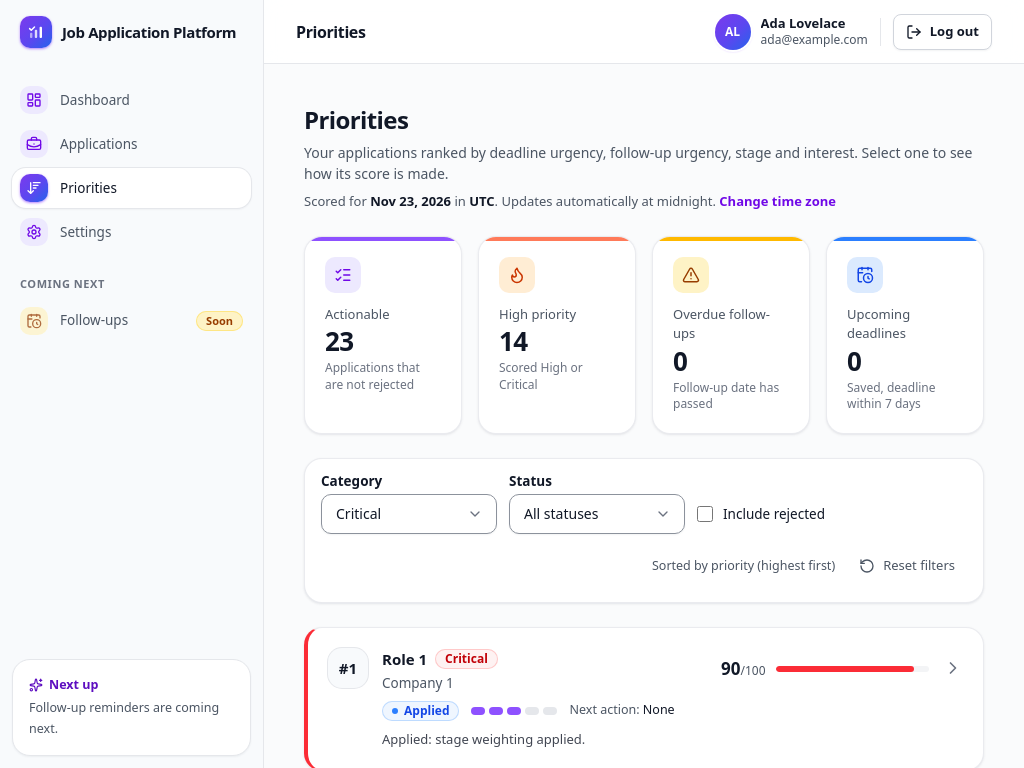
it: Priorities page: filters and pagination › filters live in the URL and can be reset
Expected: the dropdown labelled "Category" shows "Critical", x1=321 y1=494 x2=497 y2=534
Click the button "Reset filters": [907, 566] box x1=847 y1=546 x2=967 y2=586
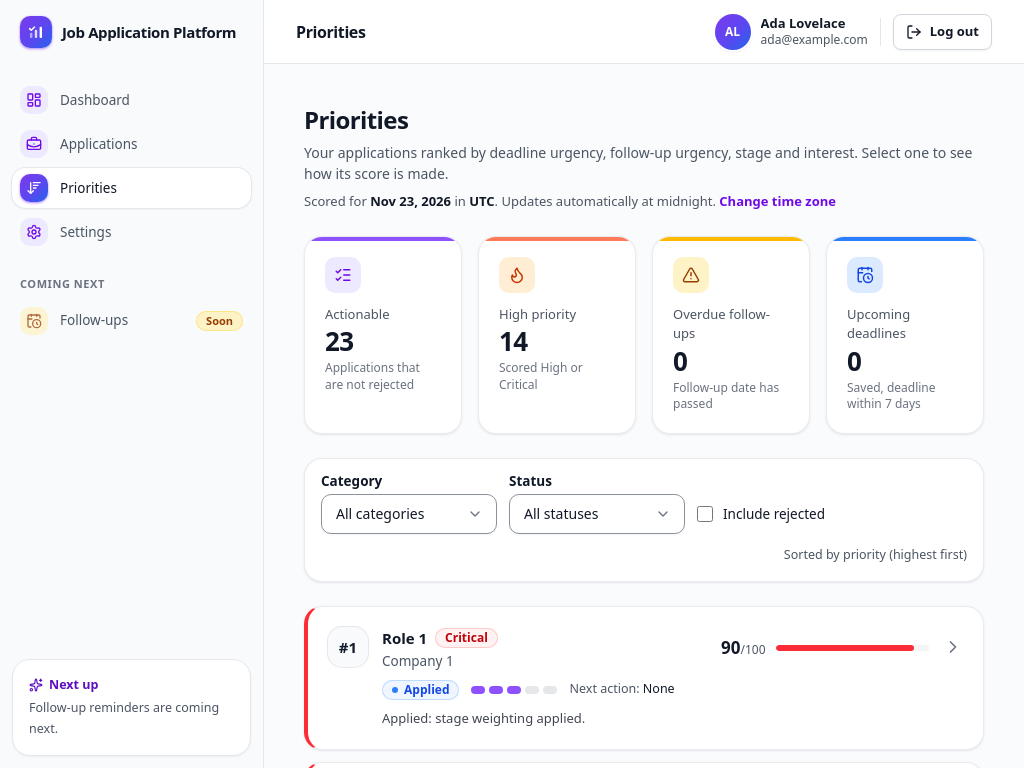
Expected: the number of list items with test id "priority-item" is 10
Expected: the dropdown labelled "Category" shows "All categories", x1=321 y1=494 x2=497 y2=534
